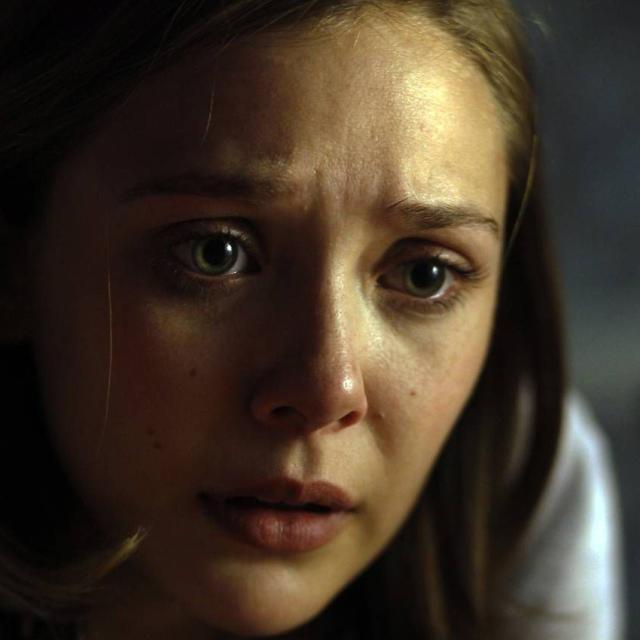Depress: (33, 0, 510, 634)
